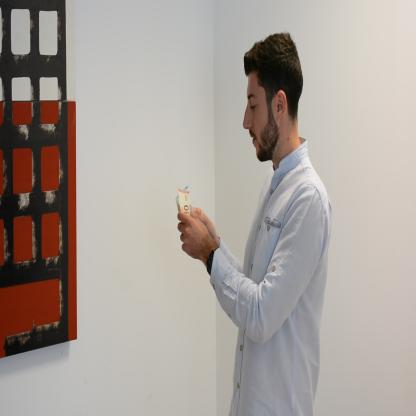billete: (175, 185, 194, 217)
